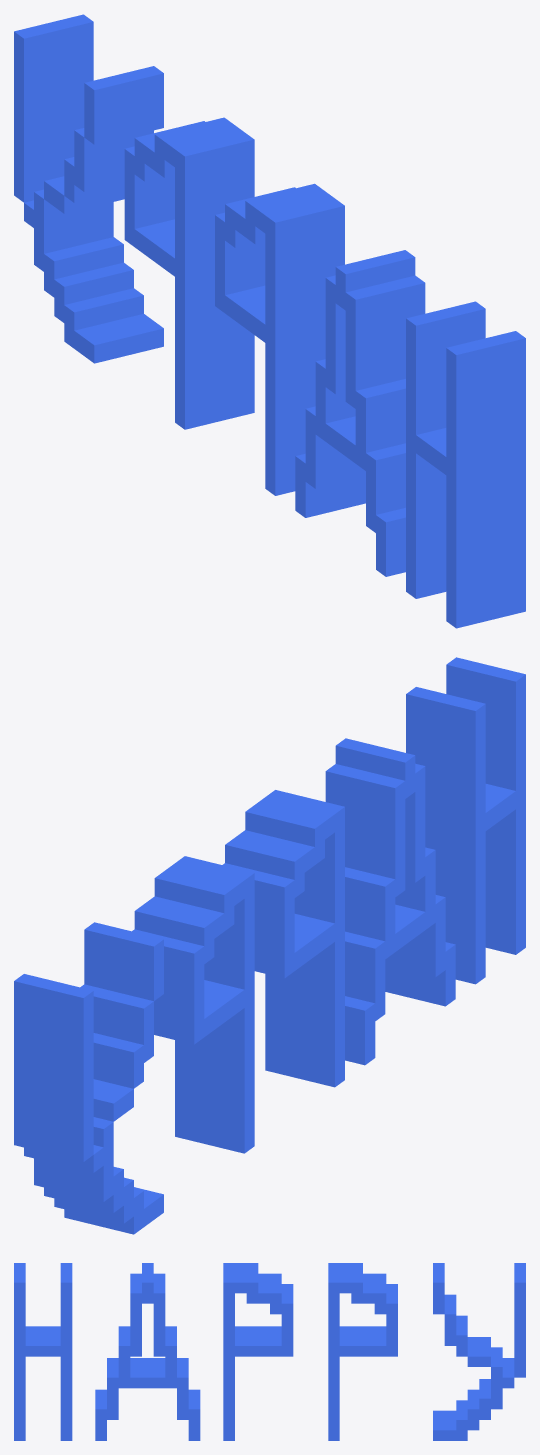
The model's file is happy.gltf.
3 renders of one model, top to bottom at view 1: azimuth 30°, elevation 25°; view 2: azimuth 150°, elevation 25°; view 3: azimuth 270°, elevation 25°, orthographic. The views are drawn at different scales.
Visible parts, largest first — view 1: Object; view 2: Object; view 3: Object.
Part boxes in pixels (box(x1,y1,x2,y2)): Object: box(14, 14, 525, 628); Object: box(14, 657, 525, 1234); Object: box(14, 1263, 525, 1440).
Bounding box in the file's own units: 4 × 15 × 44.
Materials: 1 (1 with a texture image).
